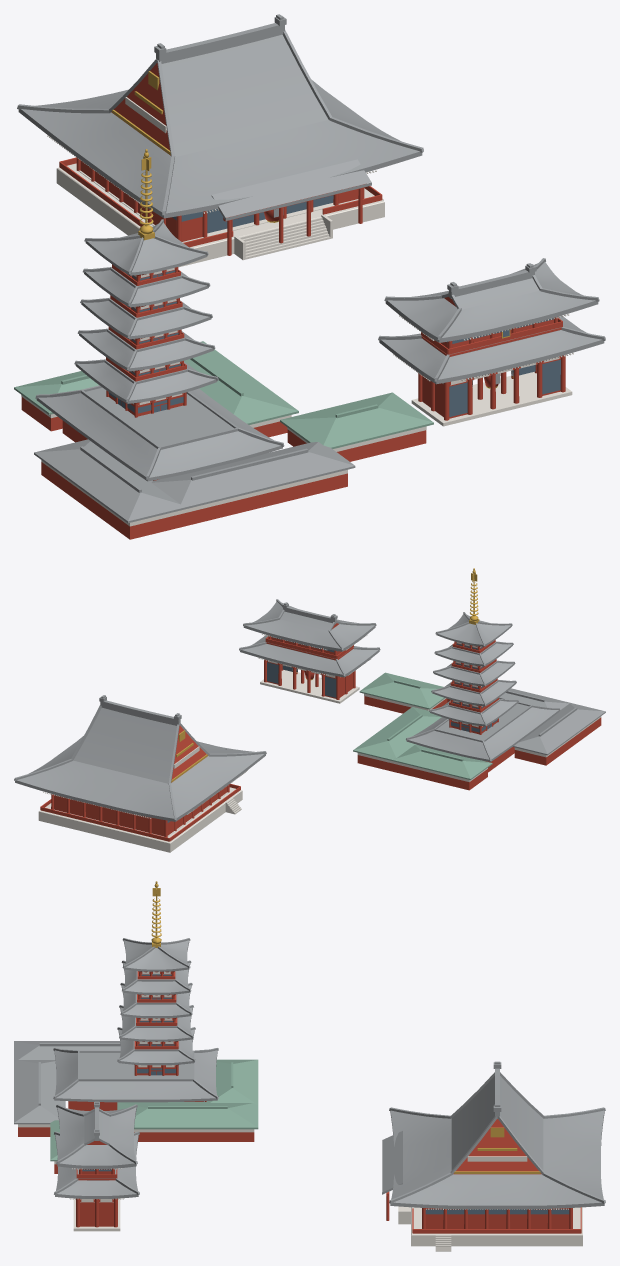
Rendered from tokyo-sensoji.detail.glb.
3 views of the same model, one above another, from view 1: azimuth 30°, elevation 25°; view 2: azimuth 150°, elevation 25°; view 3: azimuth 270°, elevation 25° (orthographic). The views are drawn at different scales.
Parts seen in each view (by area): view 1: Sensō-ji; view 2: Sensō-ji; view 3: Sensō-ji.
Boxes of the visible parts, <box> form: Sensō-ji: <box>14,14,605,539</box>; Sensō-ji: <box>14,568,605,852</box>; Sensō-ji: <box>14,881,605,1251</box>.
Size of the model in its own units: 104 by 53.28 by 132.
